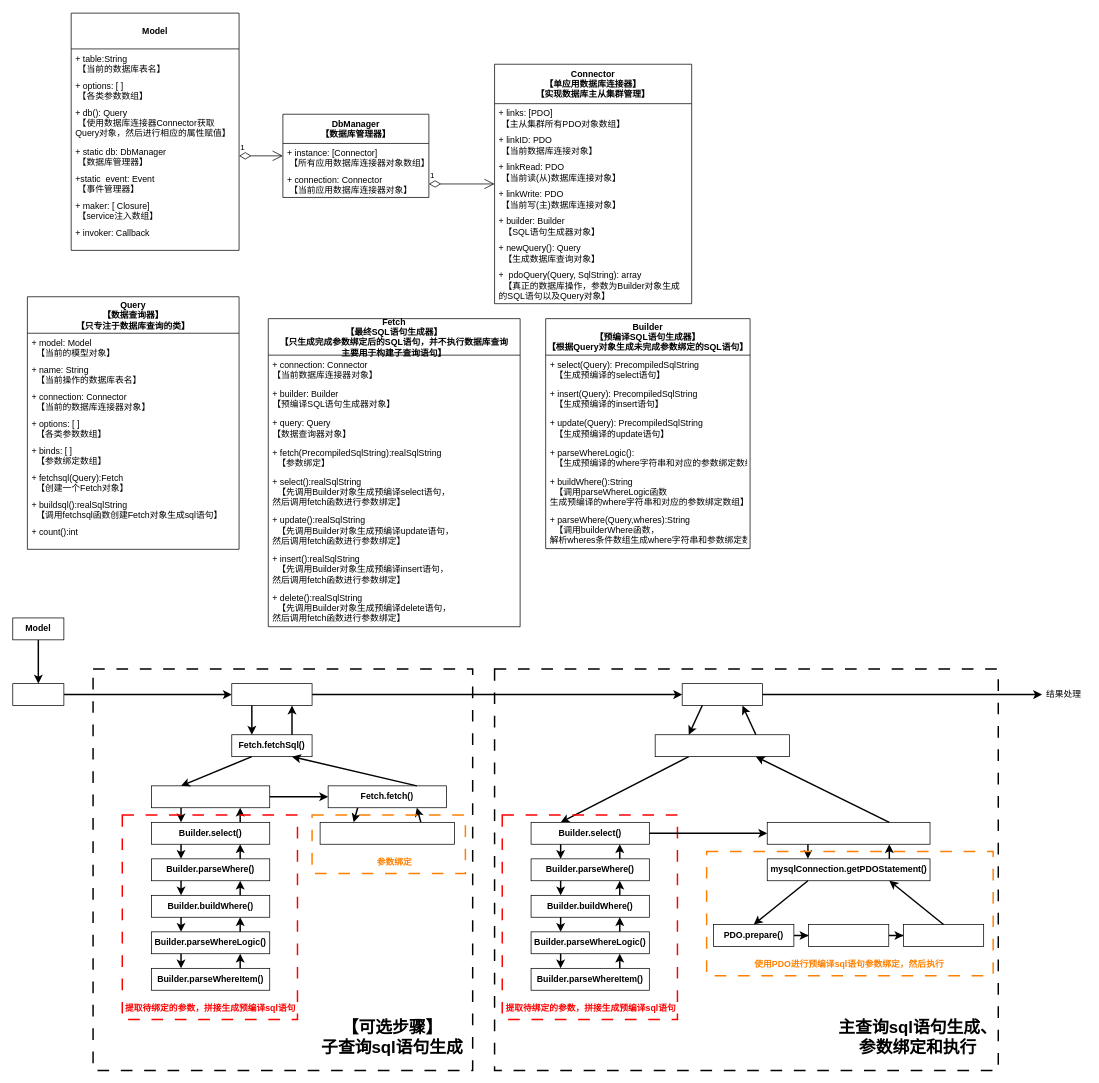
The diagram is 1099 pixels wide and 1083 high, and some of its shapes have lost their labels. The shapes that lost their labels are listed below. From the top down, each one's centre as x and y in pixels, then its label:
At [38,694]: "Query".
At [271,694]: "Query.buildSql()".
At [721,694]: "Query.select()".
At [721,745]: "mysqlConnection.select()".
At [210,796]: "Fetch.select()".
At [386,833]: "mysqlConnection.getRealSql()".
At [848,833]: "mysqlConnection.pdoQuery()".
At [848,935]: "PDO.bindValue()".
At [943,935]: "PDO.execute()".
